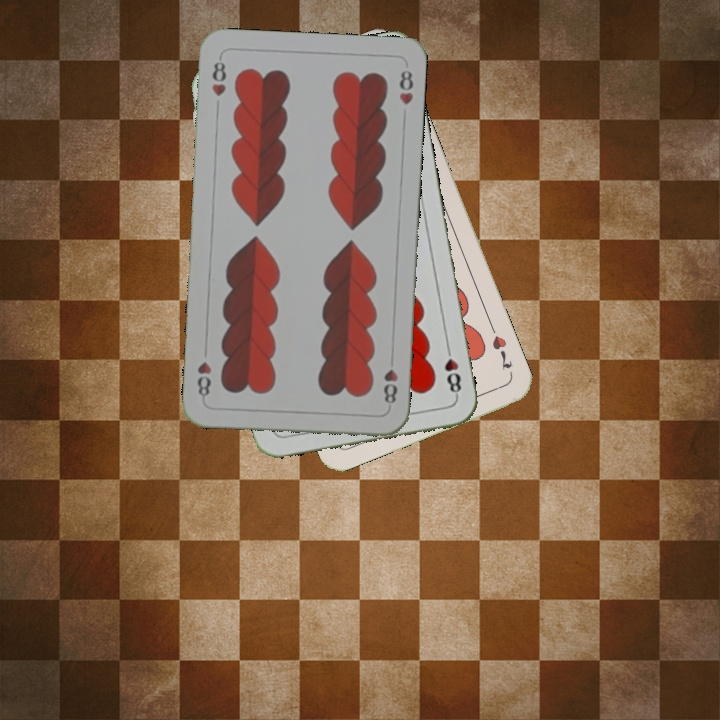H7: (486, 321, 515, 373)
H8: (440, 341, 464, 400), (379, 352, 401, 407), (208, 53, 229, 99)
